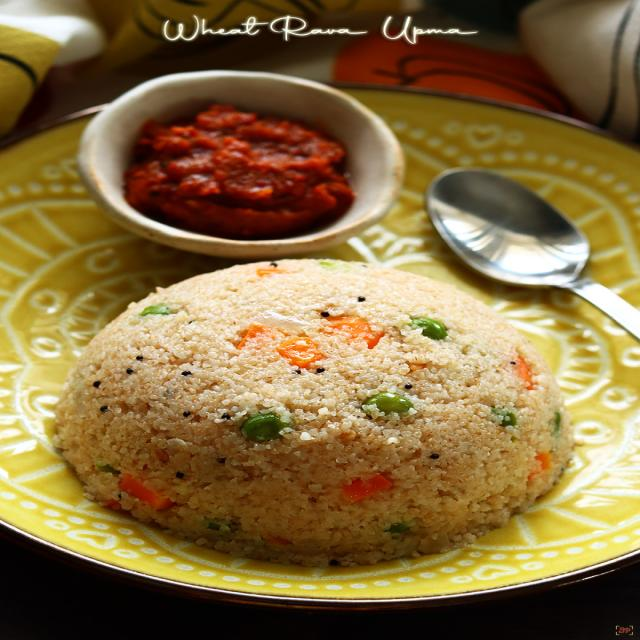UPMA: (56, 260, 572, 565)
